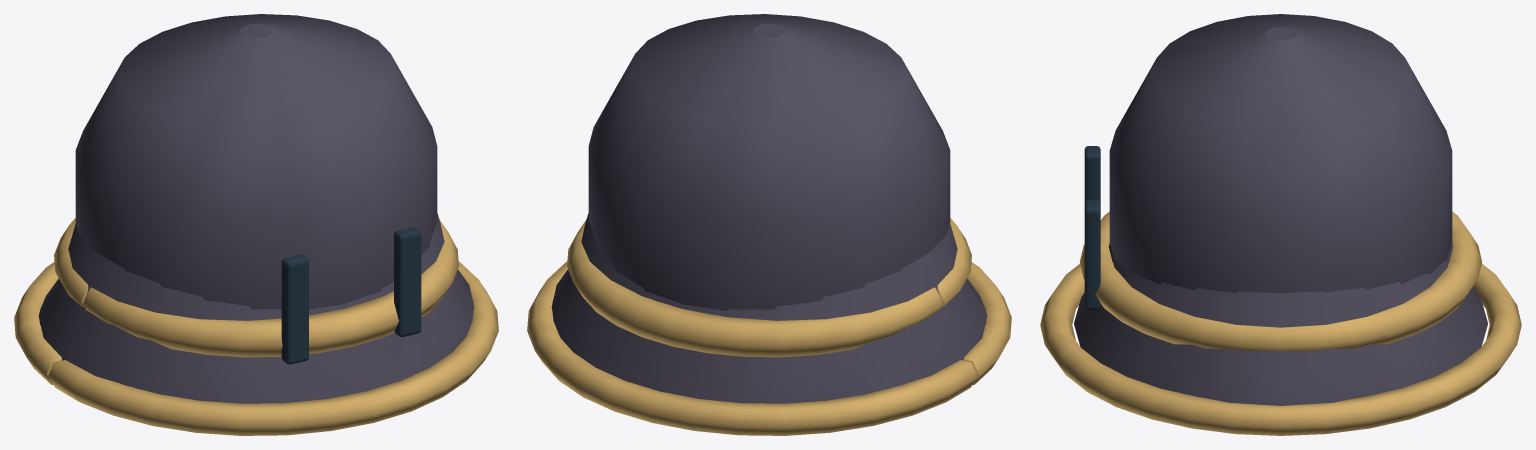
Rendered from item_025.glb.
3 views of the same model, side by side, from view 1: azimuth 30°, elevation 25°; view 2: azimuth 150°, elevation 25°; view 3: azimuth 270°, elevation 25° (orthographic).
Parts seen in each view (by area): view 1: Item_025_bellkeeper_helm; view 2: Item_025_bellkeeper_helm; view 3: Item_025_bellkeeper_helm.
Boxes of the visible parts, <box> form: Item_025_bellkeeper_helm: <box>14,14,498,435</box>; Item_025_bellkeeper_helm: <box>527,14,1011,435</box>; Item_025_bellkeeper_helm: <box>1040,14,1521,435</box>.
Bounding box in the file's own units: 0.4497 × 0.313 × 0.45.
